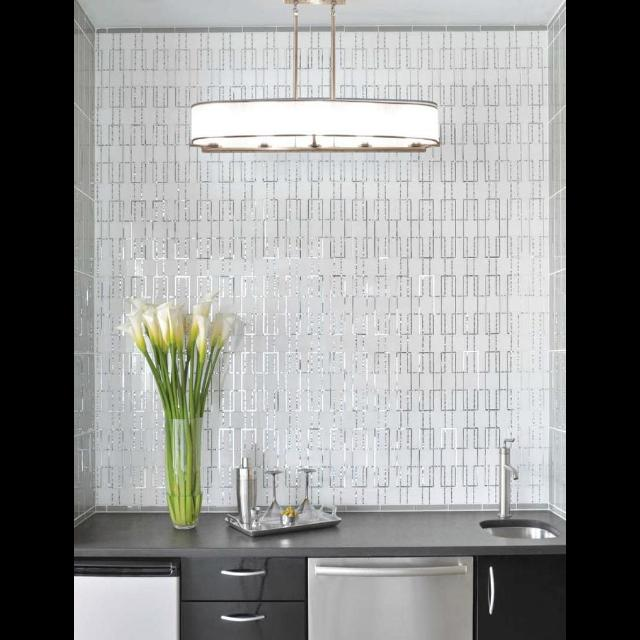Flower: (115, 294, 241, 360), (194, 313, 222, 347)
